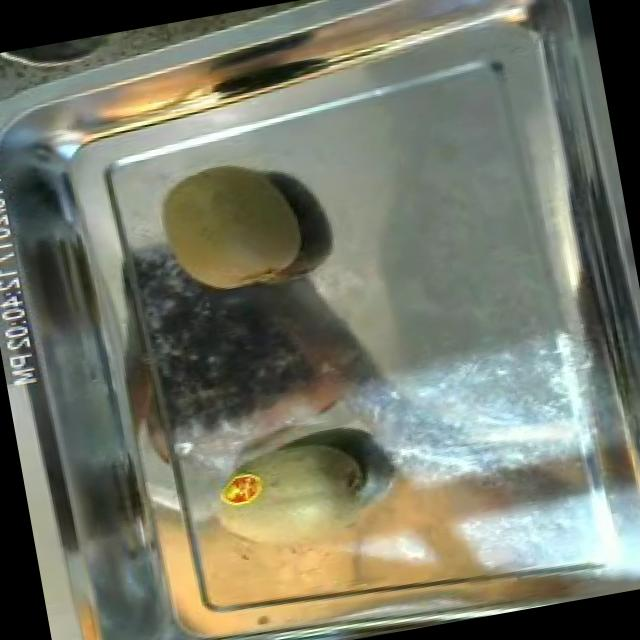Fruit: (183, 408, 417, 640), (140, 143, 324, 309)
